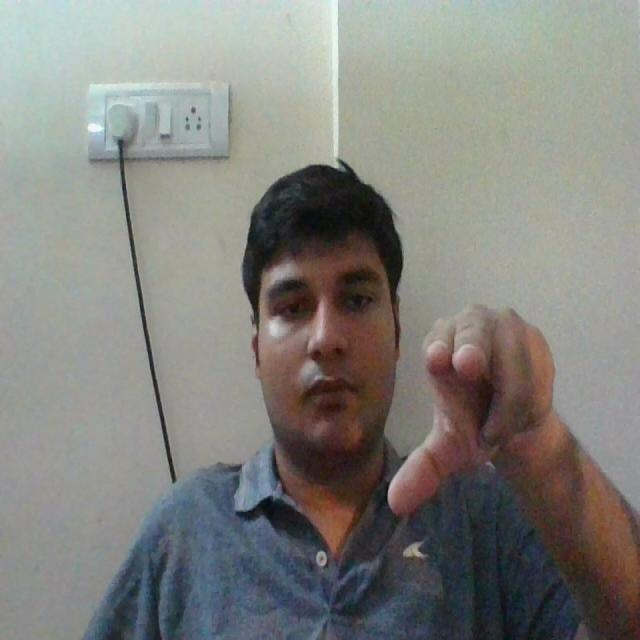no: (394, 309, 560, 530)
